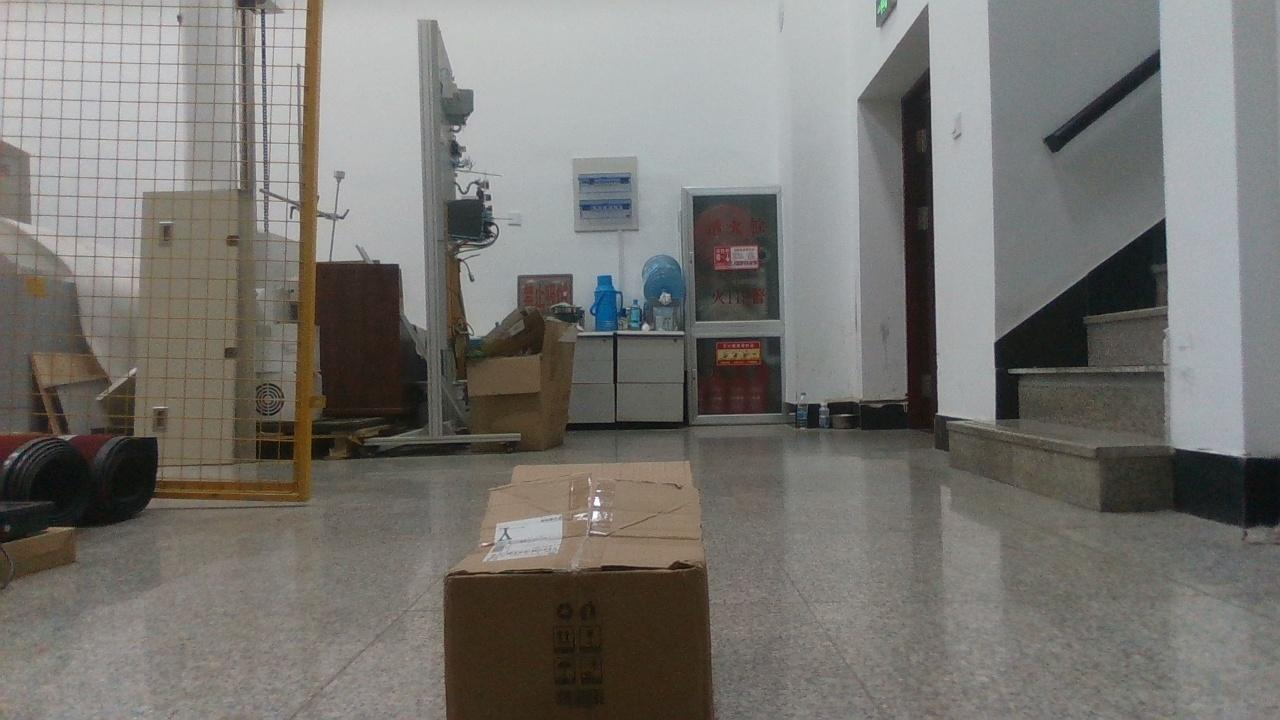box: (445, 460, 712, 716)
